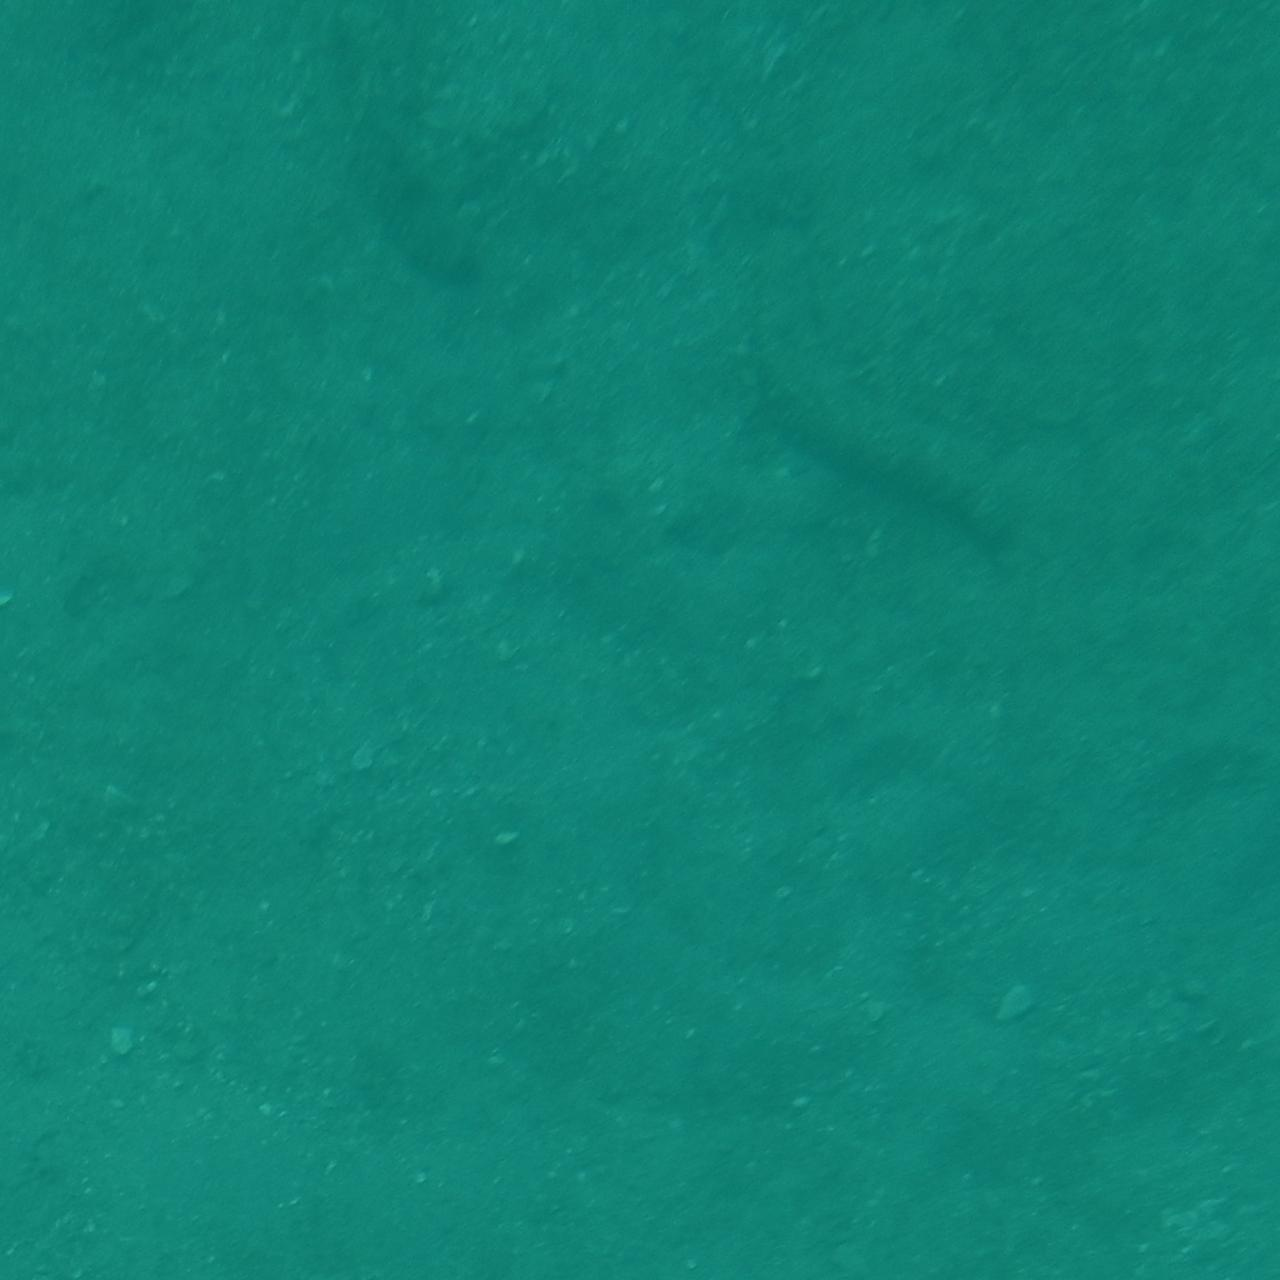Holothuria tubulosa: (267, 36, 503, 315), (751, 326, 1039, 554)
